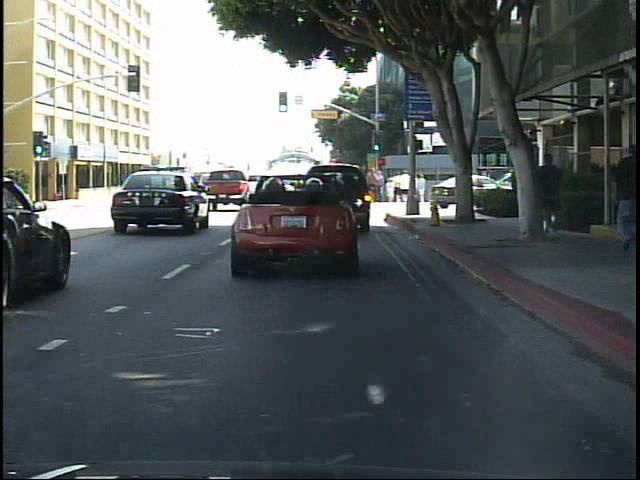person: (606, 141, 637, 260), (541, 147, 571, 237), (128, 175, 146, 202)
